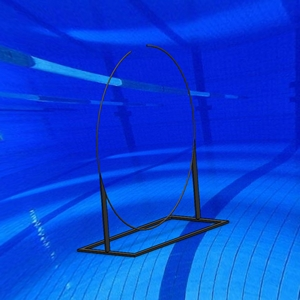circle: (76, 42, 231, 259)
